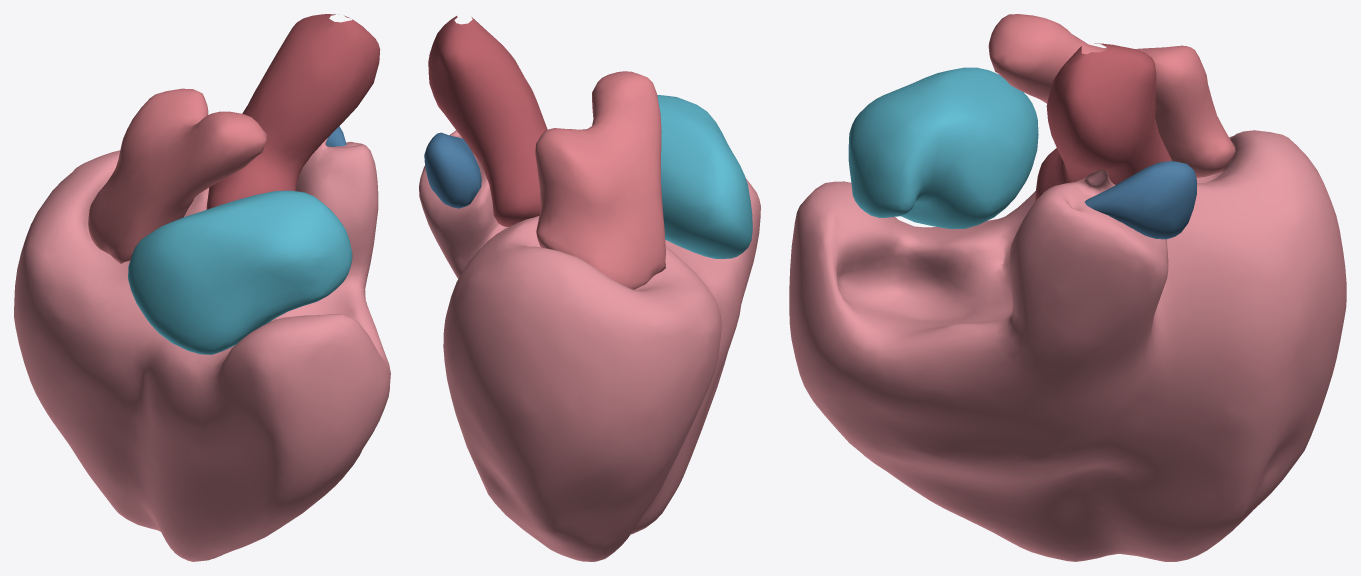
File: frame_65.glb
3 views of the same model, side by side, from view 1: azimuth 30°, elevation 25°; view 2: azimuth 150°, elevation 25°; view 3: azimuth 270°, elevation 25° (orthographic). The views are drawn at different scales.
Visible parts, largest first — view 1: Renderer Node; view 2: Renderer Node; view 3: Renderer Node.
Part boxes in pixels (bbox=[...]): Renderer Node: bbox=[14, 14, 390, 561]; Renderer Node: bbox=[419, 16, 760, 561]; Renderer Node: bbox=[789, 14, 1346, 561].
Size of the model in its own units: 107 by 164 by 137.
